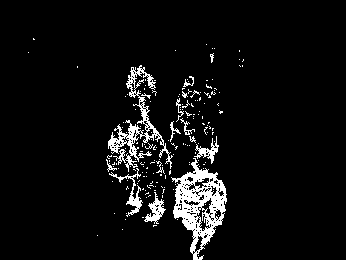person: (176, 149, 227, 260), (112, 116, 145, 215), (138, 128, 171, 224), (196, 78, 226, 159), (176, 76, 201, 160)
